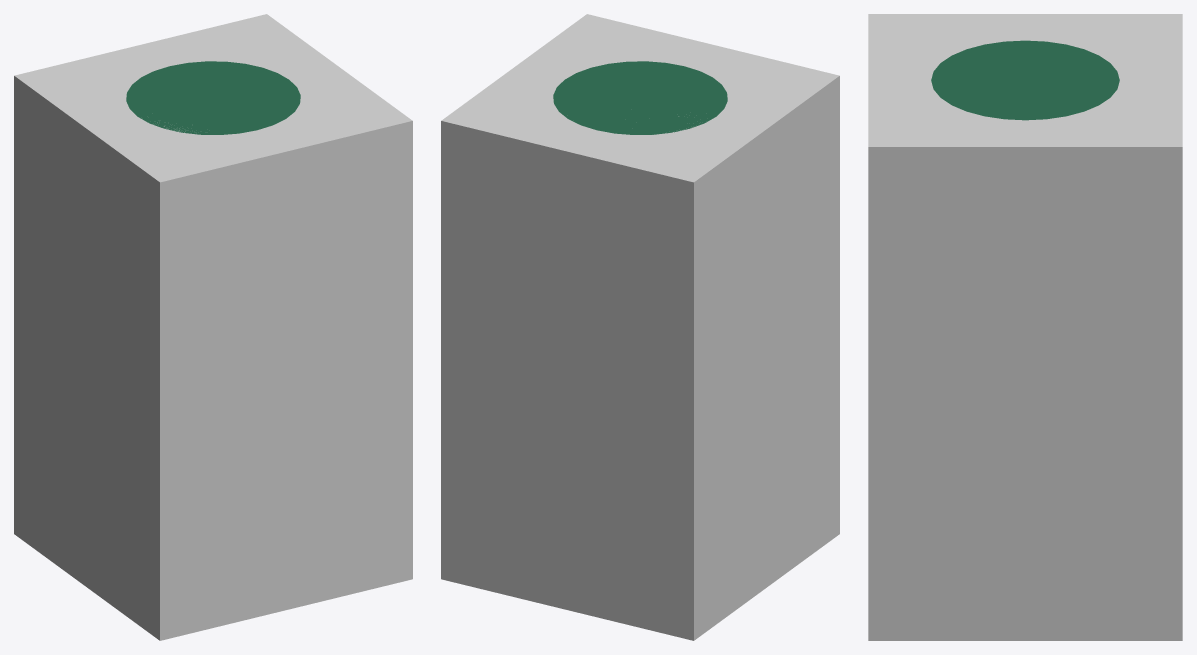
The model's file is pendant-light_luxury.glb.
3 renders of one model, left to right at view 1: azimuth 30°, elevation 25°; view 2: azimuth 150°, elevation 25°; view 3: azimuth 270°, elevation 25°, orthographic. The views are drawn at different scales.
Parts seen in each view (by area): view 1: COL_pendant-light, MESH_CeilingCanopy; view 2: COL_pendant-light, MESH_CeilingCanopy; view 3: COL_pendant-light, MESH_CeilingCanopy.
Boxes of the visible parts, bbox=[...] form: COL_pendant-light: bbox=[14, 14, 412, 640]; MESH_CeilingCanopy: bbox=[126, 61, 300, 134]; COL_pendant-light: bbox=[441, 14, 839, 640]; MESH_CeilingCanopy: bbox=[553, 61, 727, 134]; COL_pendant-light: bbox=[868, 14, 1182, 640]; MESH_CeilingCanopy: bbox=[931, 40, 1119, 120].
Size of the model in its own units: 0.45 by 0.78 by 0.45.
